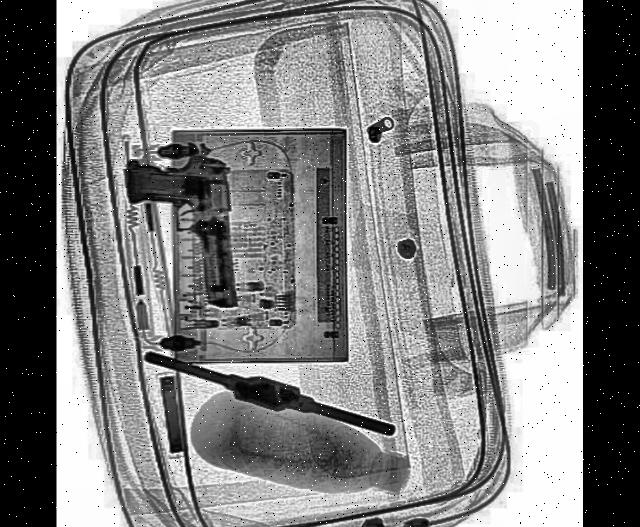Gun: (123, 134, 240, 322)
